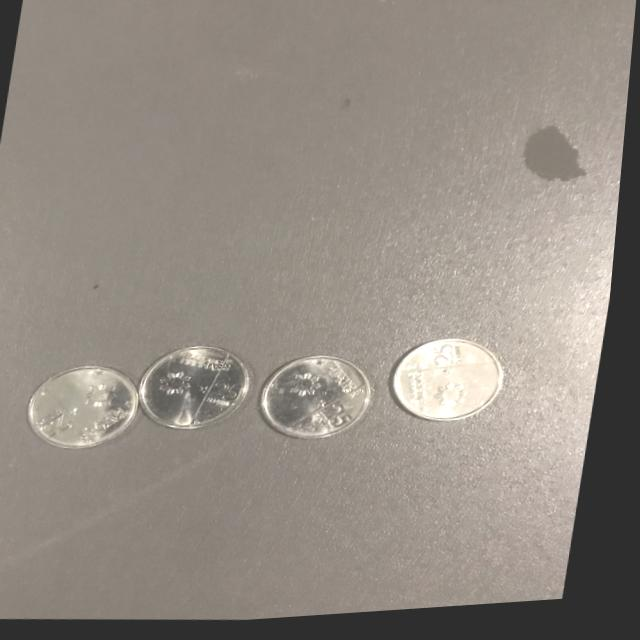25Cent_New_Front: (262, 358, 382, 440), (145, 346, 257, 430), (404, 345, 508, 432), (33, 372, 146, 450)
